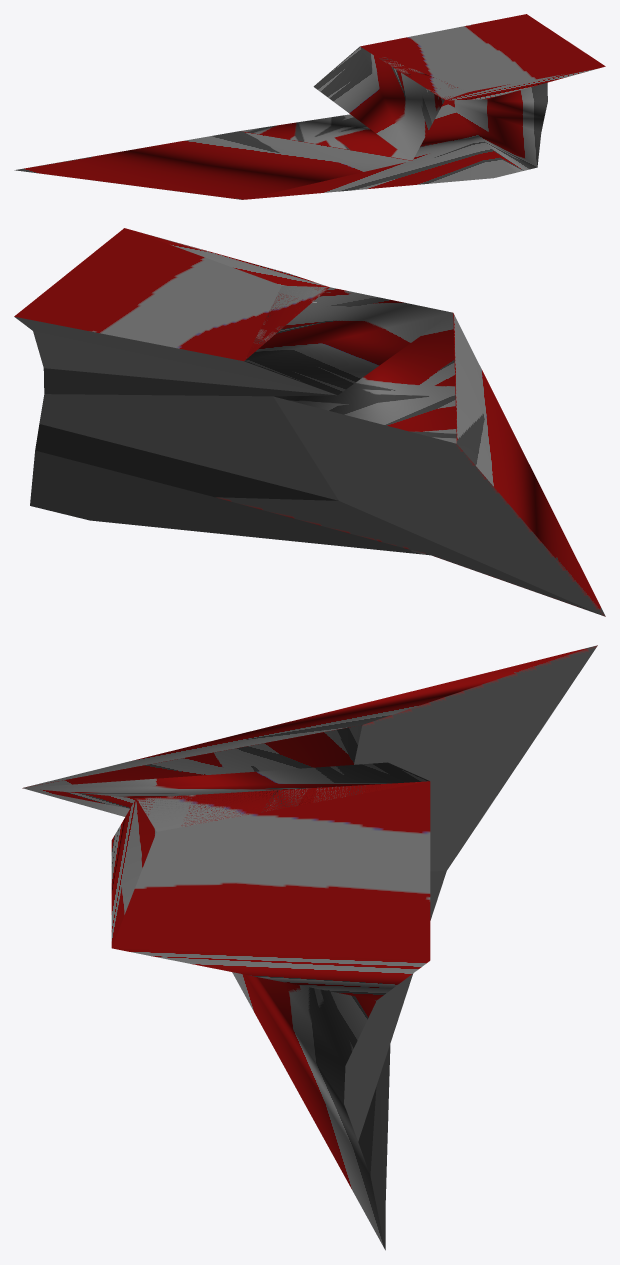
File: enemyFighterBreak04.obj
3 views of the same model, one above another, from view 1: azimuth 30°, elevation 25°; view 2: azimuth 150°, elevation 25°; view 3: azimuth 270°, elevation 25° (orthographic). The views are drawn at different scales.
Visible parts, largest first — view 1: Cube.001; view 2: Cube.001; view 3: Cube.001.
Boxes of the visible parts, x1,y1,x2,y2 form: Cube.001: (14,14,605,199); Cube.001: (14,228,605,616); Cube.001: (22,645,597,1250).
Size of the model in its own units: 2.08 by 0.6471 by 1.1.
1 material, 1 textured.
